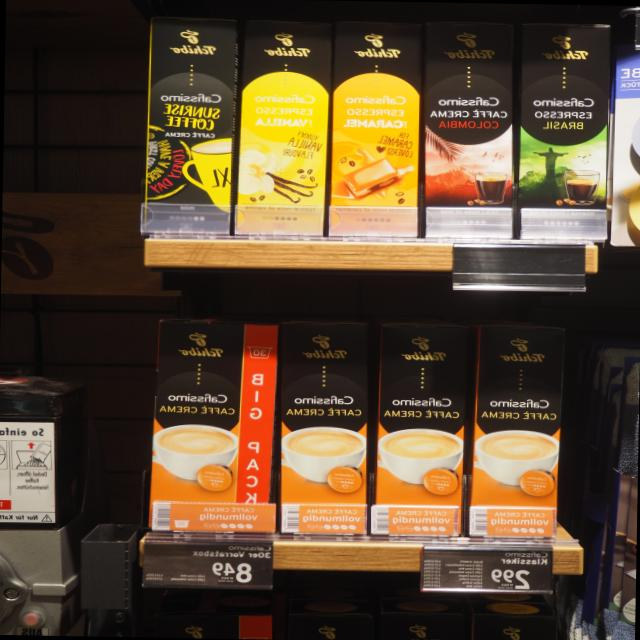Simo CC Colombia: (422, 19, 518, 242)
Simo CCVollmundig: (146, 318, 283, 534)
Simo CCVollmundig bigpack: (464, 323, 570, 539), (371, 321, 476, 538), (277, 320, 376, 537)
Simo Es Brazil: (511, 19, 614, 241)
Simo Es Caramel: (324, 19, 424, 239)
Simo Es Vanilla: (232, 17, 333, 239)
Simo Sunrise: (137, 14, 245, 237)
